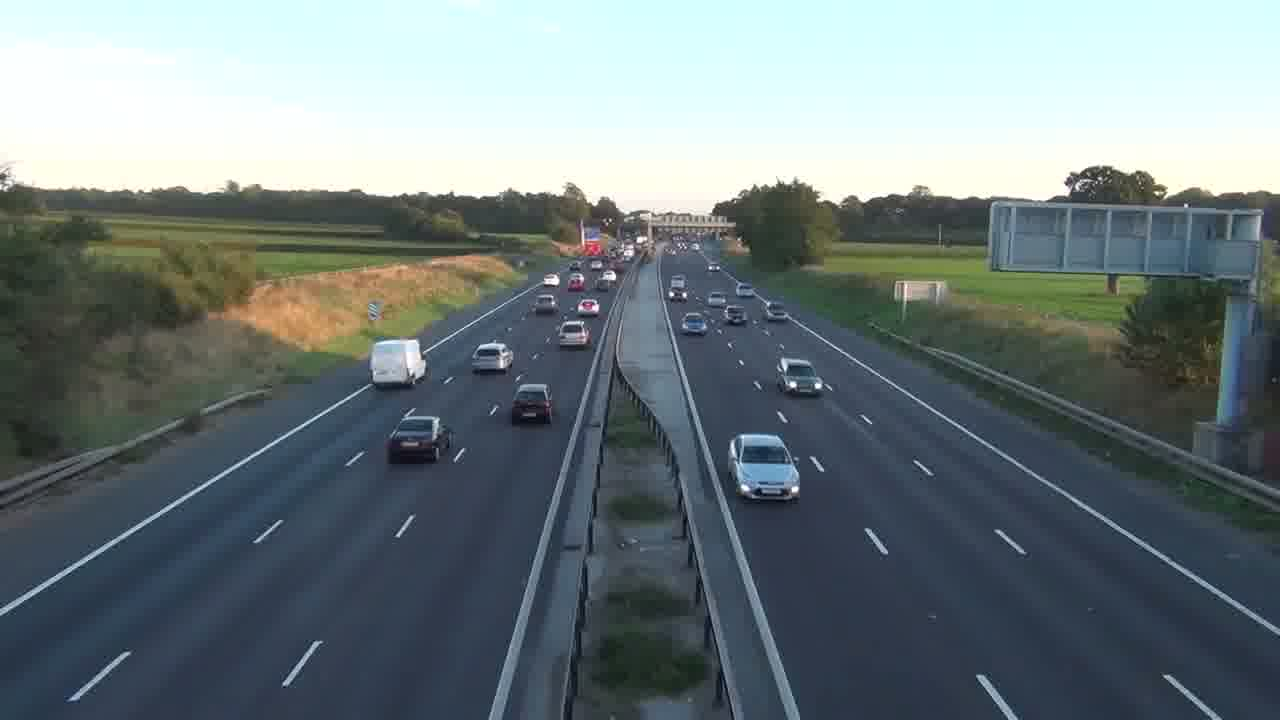car: (728, 432, 801, 502), (385, 412, 452, 463), (511, 382, 557, 424), (777, 357, 823, 397), (471, 341, 514, 374), (558, 318, 593, 349), (681, 312, 707, 334)
truck: (368, 338, 428, 390)
